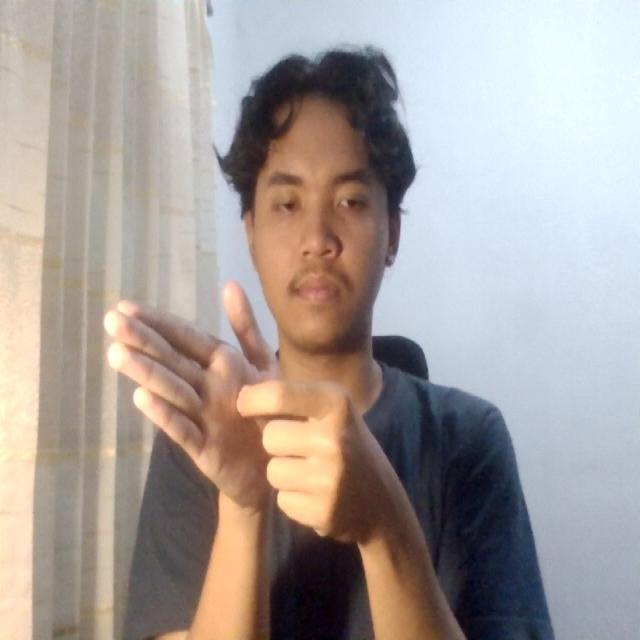L: (90, 268, 422, 565)
